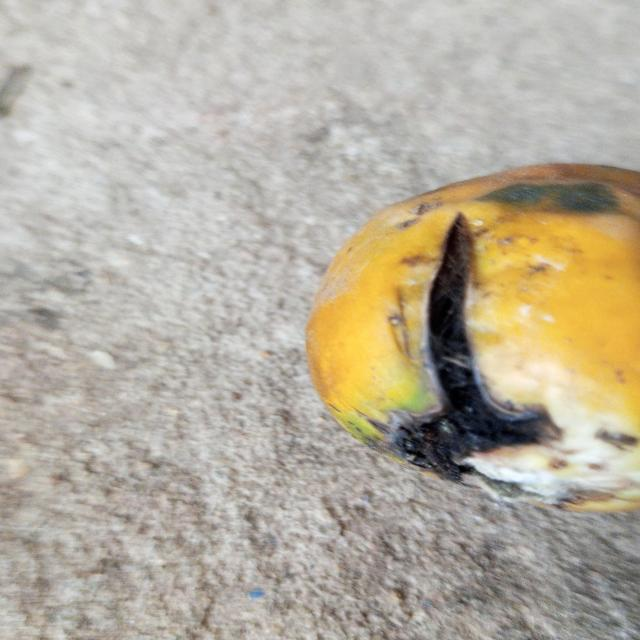damaged: (304, 164, 640, 516)
